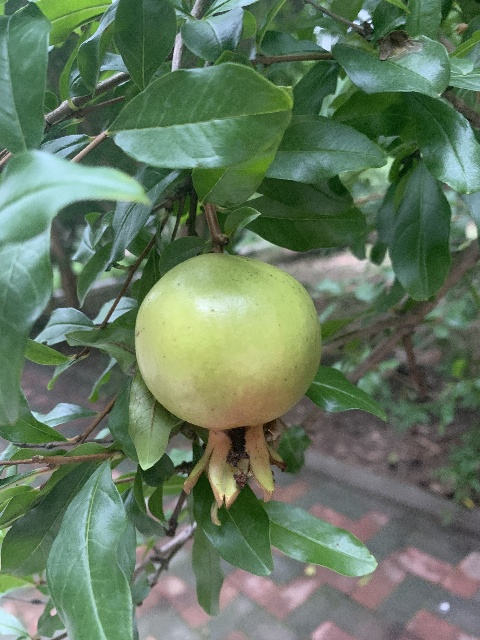mid-growth: (133, 253, 322, 510)
